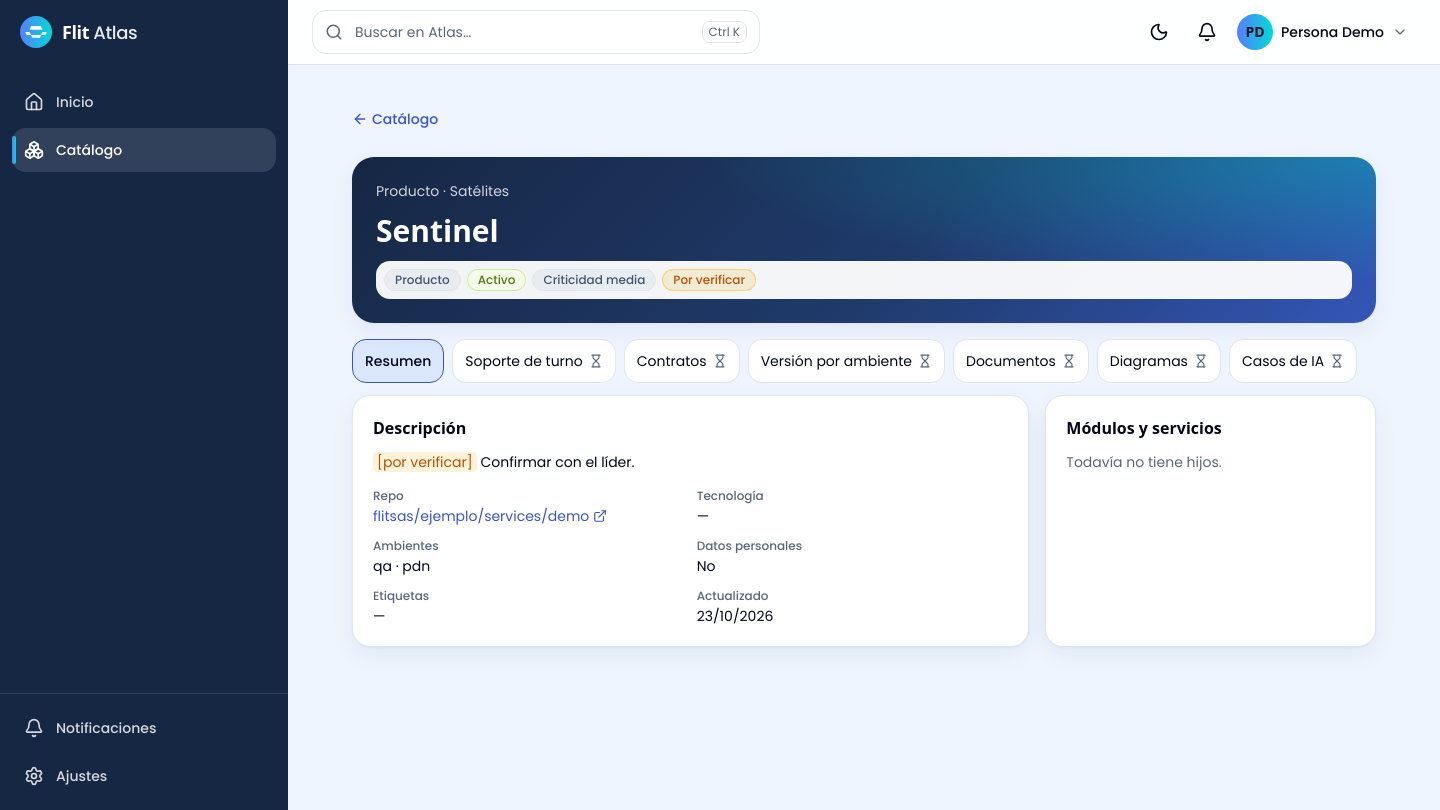
Test case: ficha del aplicativo › muestra el resumen con la marca «[por verificar]» y los espacios de los demás módulos como próximamente
Expected: the heading "Sentinel" is shown, [376,210,499,251]
Expected: the text "[por verificar]" is shown, [373,452,477,472]
Click the tab "Contratos" at [682, 361], box [624,339,740,383]
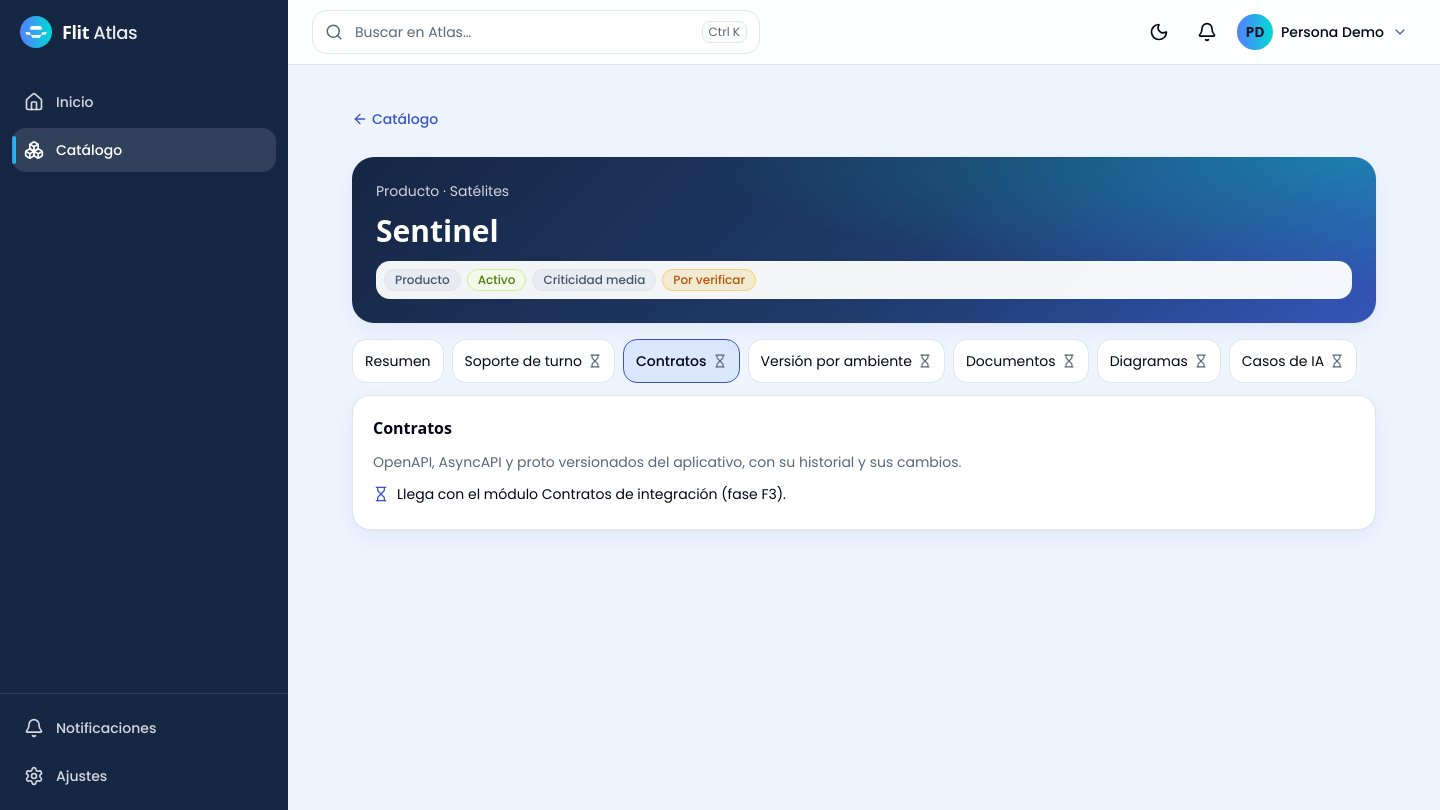
Expected: the text "Llega con el módulo Contratos de integración (fase F3)." is shown, [373,484,786,504]
